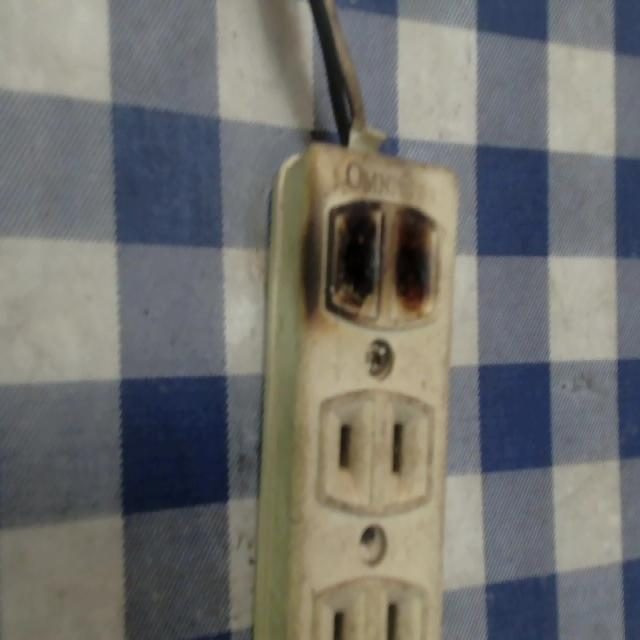-: (318, 190, 454, 330)
